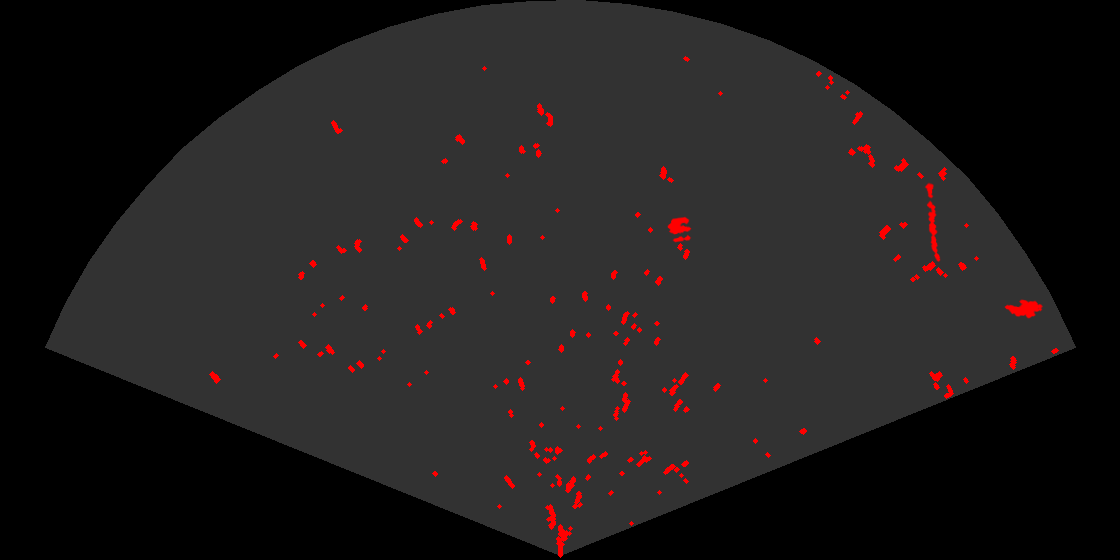AUV: (1003, 298, 1045, 320)
ball: (666, 215, 693, 244)
chain: (923, 182, 942, 264)
